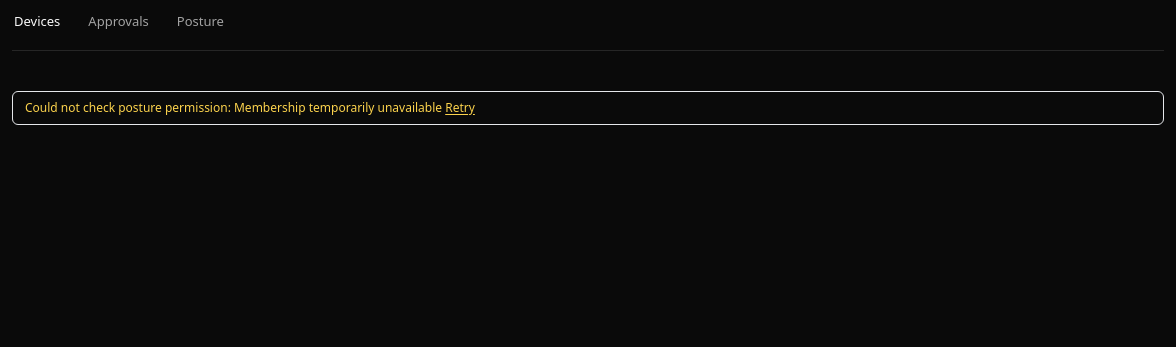
Test case: Device posture permission boundary › makes an unavailable permission read retryable without presenting it as a role denial
Expected: the message "Could not check posture permission: Membership temporarily unavailable Retry" is shown, [12, 90, 1164, 124]
Expected: the table "Posture checks" is not shown
Click the button "Retry" at (460, 108), box [445, 100, 475, 116]
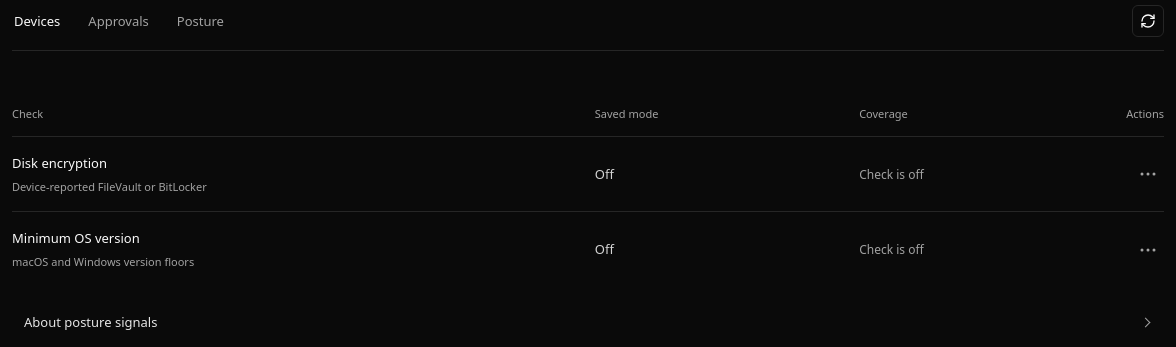
Now the table named "Posture checks" is shown, box [12, 90, 1164, 287]
